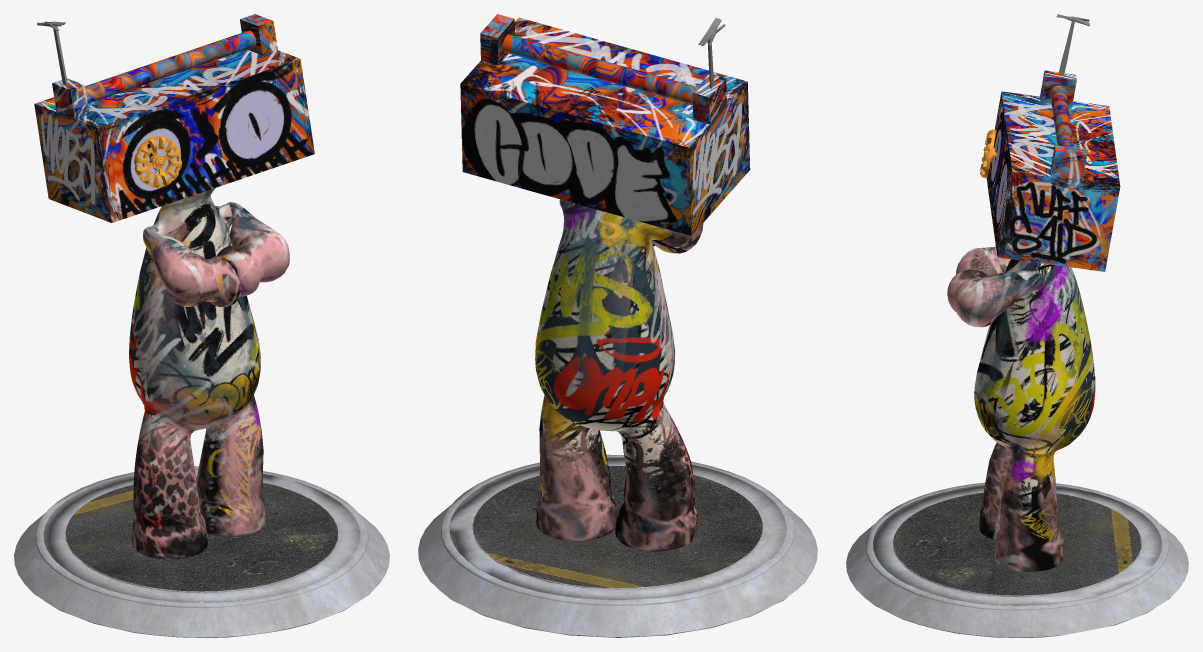
The picture shows the model from 3 angles, left to right: view 1: azimuth 30°, elevation 25°; view 2: azimuth 150°, elevation 25°; view 3: azimuth 270°, elevation 25°; orthographic projection. The views are drawn at different scales.
Parts seen in each view (by area): view 1: BBody; view 2: BBody; view 3: BBody.
Part boxes in pixels (<box>): BBody: <box>14,14,389,637</box>; BBody: <box>418,14,817,637</box>; BBody: <box>846,14,1188,637</box>.
Size of the model in its own units: 1.45 by 2.33 by 1.45.
Materials: 6 (5 with a texture image).
